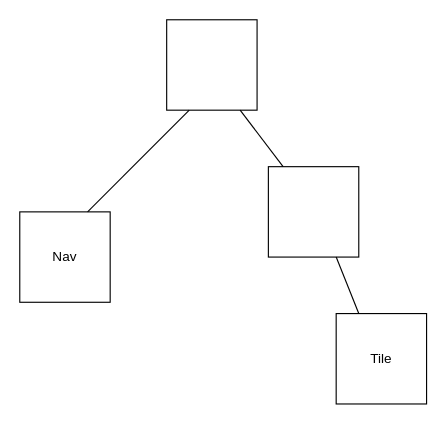
The diagram is 446 pixels wide and 424 high, and some of its shapes have lost their labels. The shapes that lost their labels are listed below. From the top down, each one's centre as x and y in pixels, then its label:
the point at 211,64: APP
the point at 313,211: TileList
